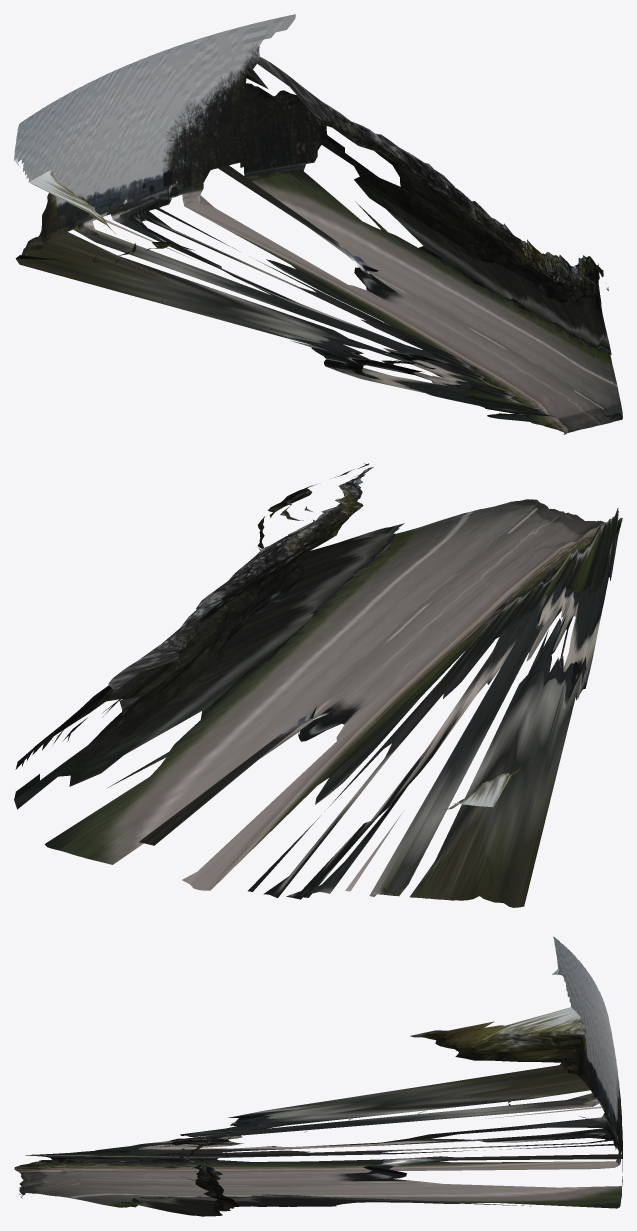
The picture shows the model from 3 angles, top to bottom: view 1: azimuth 30°, elevation 25°; view 2: azimuth 150°, elevation 25°; view 3: azimuth 270°, elevation 25°; orthographic projection. The views are drawn at different scales.
Parts seen in each view (by area): view 1: defaultobject; view 2: defaultobject; view 3: defaultobject.
Part boxes in pixels (left/top/right/bottom): defaultobject: left=14, top=14, right=622, bottom=434; defaultobject: left=14, top=463, right=622, bottom=907; defaultobject: left=14, top=936, right=622, bottom=1216.
Size of the model in its own units: 29.68 by 12.08 by 44.84.
1 material, 1 textured.
